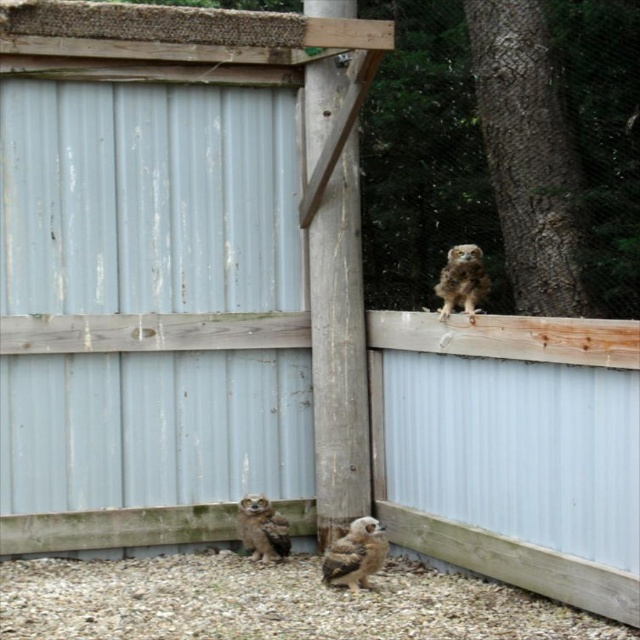Owl: (320, 515, 391, 593), (431, 246, 497, 325), (237, 493, 297, 565)
